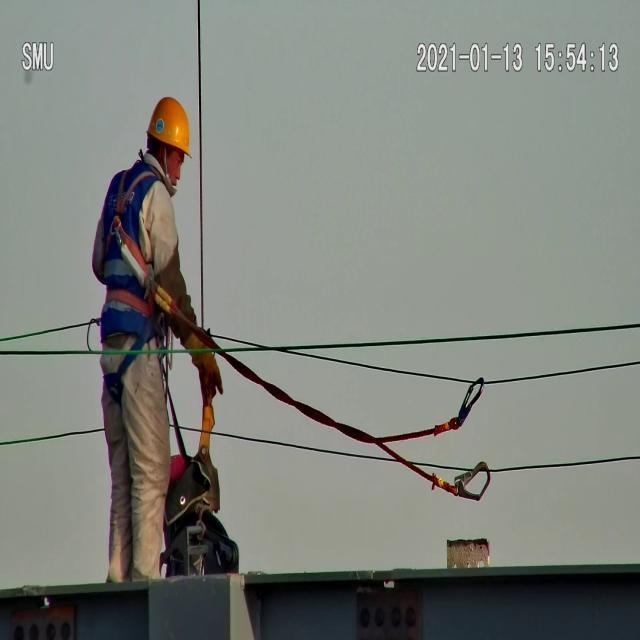Arnes_seguridad: (102, 154, 171, 330)
